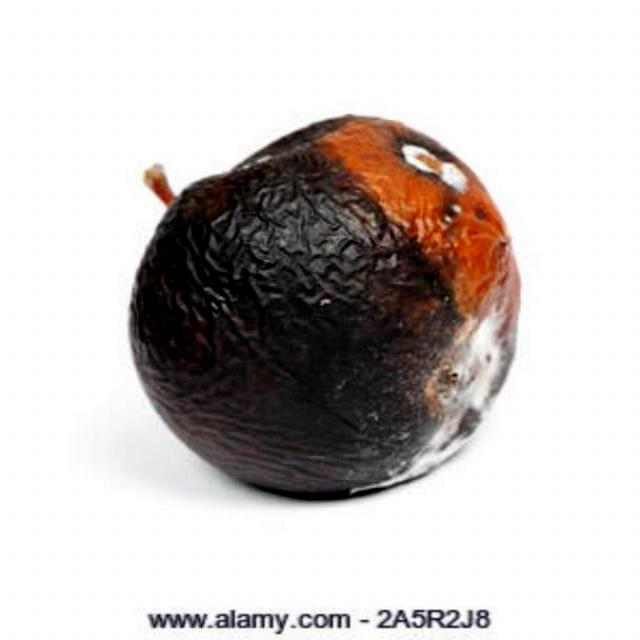ROT: (99, 78, 536, 543)
